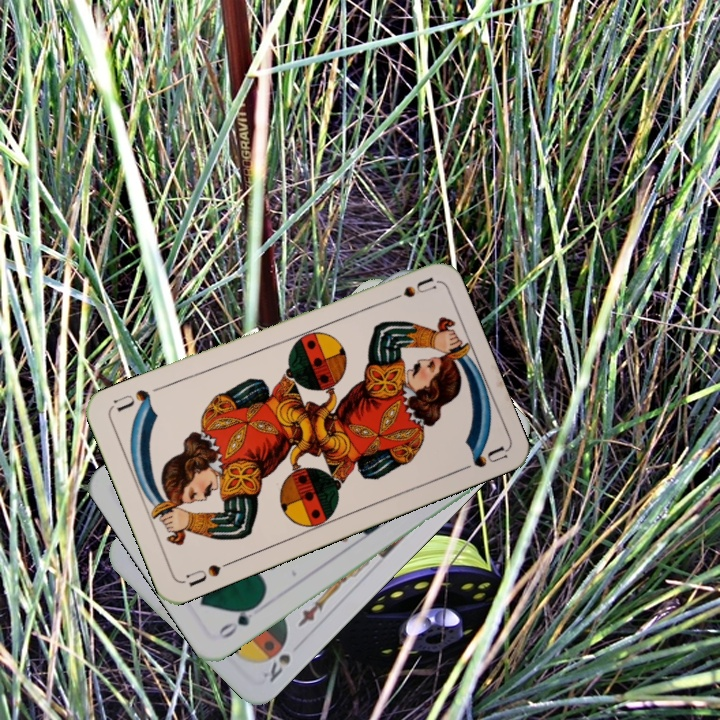GO: (214, 598, 263, 642)
SK: (260, 635, 293, 685)
SU: (379, 273, 438, 307), (181, 556, 236, 590)
